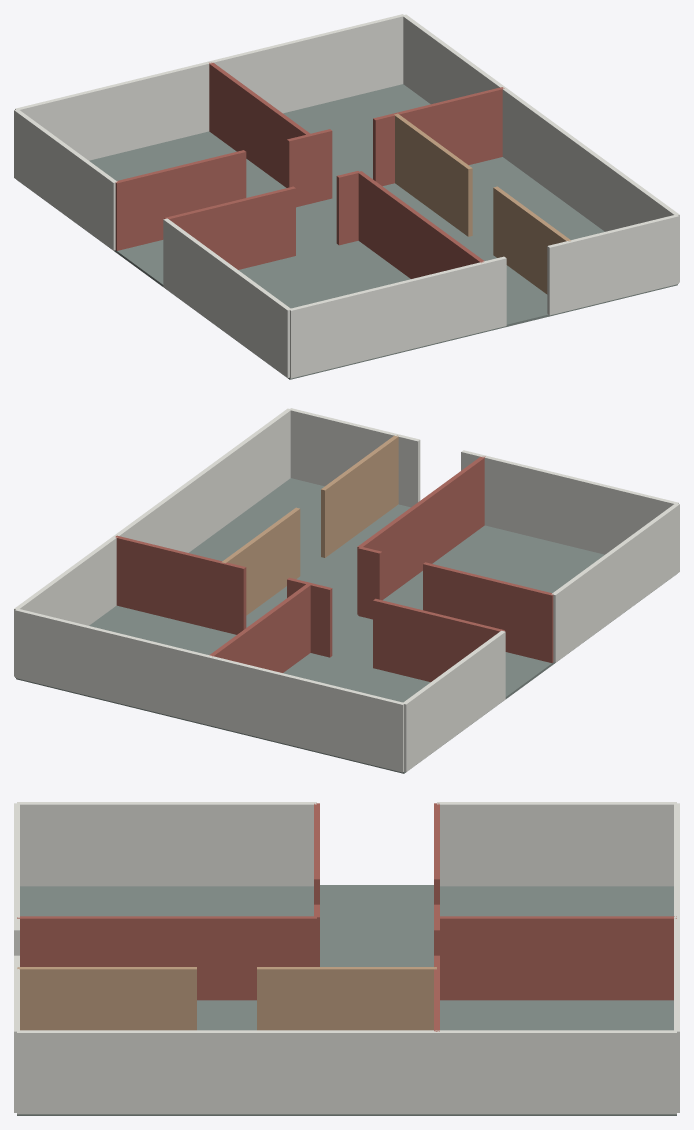
File: dept_model.glb
The picture shows the model from 3 angles, top to bottom: view 1: azimuth 30°, elevation 25°; view 2: azimuth 150°, elevation 25°; view 3: azimuth 270°, elevation 25°; orthographic projection. The views are drawn at different scales.
Parts seen in each view (by area): view 1: Wall_Outer_Top, Wall_Outer_Right, Wall_Outer_Bottom_Prof, Wall_Outer_Left_Prof, Wall_Outer_Bottom_Hall, Wall_Inner_Inv_Bottom_L, Wall_Outer_Left_Inv, Floor_Professor, Wall_Inner_Prof_Top_L, Wall_Inner_Prof_VCorr, Wall_Inner_HOD_Bottom_R, Wall_Inner_Inv_HOD (+12 smaller); view 2: Wall_Outer_Top, Wall_Outer_Right, Wall_Outer_Bottom_Prof, Wall_Inner_HOD_Bottom_R, Wall_Outer_Left_Prof, Wall_Inner_Prof_VCorr, Wall_Inner_Prof_Top_L, Wall_Outer_Left_Inv, Floor_Professor, Wall_Inner_Inv_Bottom_L, Wall_Inner_Hall_B, Wall_Outer_Bottom_Hall (+10 smaller); view 3: Wall_Outer_Right, Wall_Outer_Left_Prof, Wall_Outer_Left_Inv, Wall_Inner_Inv_HOD, Wall_Inner_Prof_VCorr, Wall_Inner_Hall_T, Wall_Inner_Hall_B, Floor_H_Corridor, Floor_Professor, Floor_HOD, Floor_Inventory, Floor_V_Corridor (+6 smaller).
Boxes of the visible parts, x1,y1,x2,y2 form: Wall_Outer_Top: [15, 14, 404, 160]; Wall_Outer_Right: [403, 14, 679, 282]; Wall_Outer_Bottom_Prof: [289, 262, 484, 378]; Wall_Outer_Left_Prof: [163, 218, 291, 377]; Wall_Outer_Bottom_Hall: [569, 215, 678, 309]; Wall_Inner_Inv_Bottom_L: [115, 150, 246, 250]; Wall_Outer_Left_Inv: [14, 109, 117, 250]; Floor_Professor: [166, 240, 483, 379]; Wall_Inner_Prof_Top_L: [164, 186, 295, 269]; Wall_Inner_Prof_VCorr: [357, 171, 484, 278]; Wall_Inner_HOD_Bottom_R: [373, 87, 504, 186]; Wall_Inner_Inv_HOD: [209, 62, 311, 187]; Wall_Outer_Top: [15, 608, 404, 772]; Wall_Outer_Right: [14, 408, 291, 676]; Wall_Outer_Bottom_Prof: [483, 455, 678, 554]; Wall_Inner_HOD_Bottom_R: [115, 535, 246, 634]; Wall_Outer_Left_Prof: [551, 503, 679, 662]; Wall_Inner_Prof_VCorr: [357, 456, 485, 614]; Wall_Inner_Prof_Top_L: [423, 562, 553, 662]; Wall_Outer_Left_Inv: [403, 630, 505, 771]; Floor_Professor: [383, 525, 676, 664]; Wall_Inner_Inv_Bottom_L: [373, 598, 504, 682]; Wall_Inner_Hall_B: [321, 435, 398, 557]; Wall_Outer_Bottom_Hall: [290, 408, 398, 486]; Wall_Outer_Right: [17, 1030, 676, 1114]; Wall_Outer_Left_Prof: [17, 802, 316, 886]; Wall_Outer_Left_Inv: [437, 802, 676, 886]; Wall_Inner_Inv_HOD: [437, 916, 676, 1000]; Wall_Inner_Prof_VCorr: [17, 916, 316, 1000]; Wall_Inner_Hall_T: [257, 967, 436, 1030]; Wall_Inner_Hall_B: [17, 967, 196, 1030]; Floor_H_Corridor: [320, 885, 433, 966]; Floor_Professor: [20, 886, 313, 916]; Floor_HOD: [437, 1000, 676, 1115]; Floor_Inventory: [440, 886, 673, 916]; Floor_V_Corridor: [197, 1000, 256, 1030].
Size of the model in its own units: 18.2 by 3.1 by 22.2.
